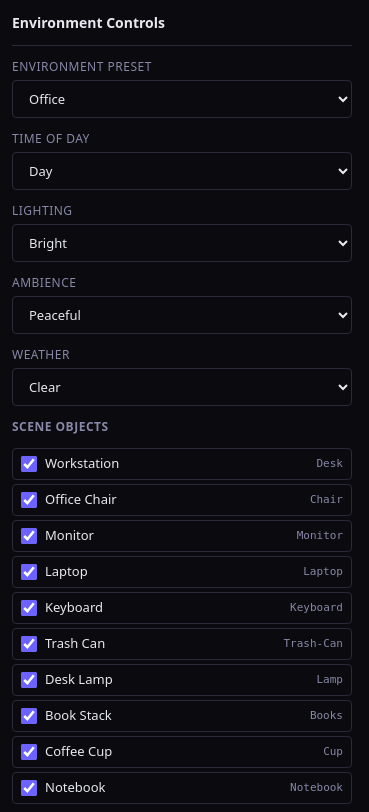
EnvironmentControlPanel — Apply flow › shows apply-status success message after Apply
Select "Busy" in the dropdown with test id "select-ambience" at (182, 315), box top-left (12, 296), bottom-right (352, 334)
(page scrolled)
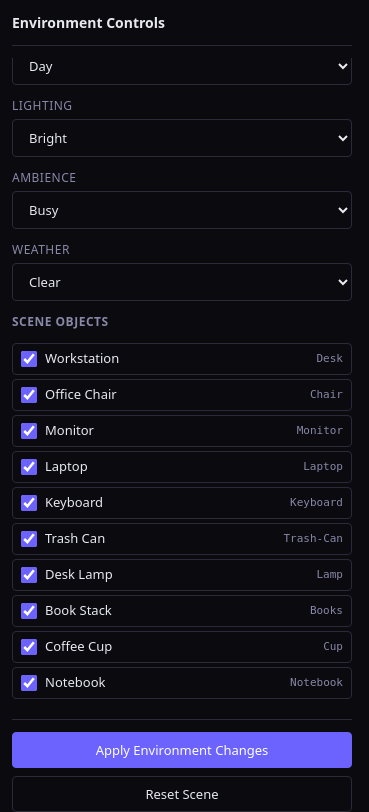
Click the button with test id "btn-apply-environment" at (182, 750), box top-left (12, 732), bottom-right (352, 768)
(page scrolled)
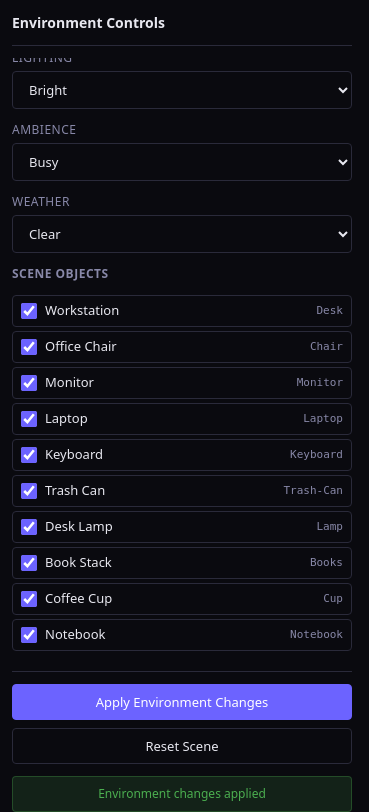
Check: the message "Environment changes applied" is shown, box top-left (12, 776), bottom-right (352, 811)
Check: the message with test id "apply-status" reads "Environment changes applied", box top-left (98, 785), bottom-right (266, 802)
